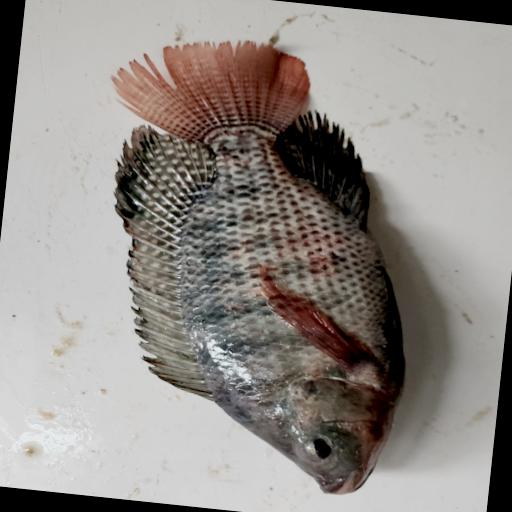Tilapia: (71, 28, 437, 503)
